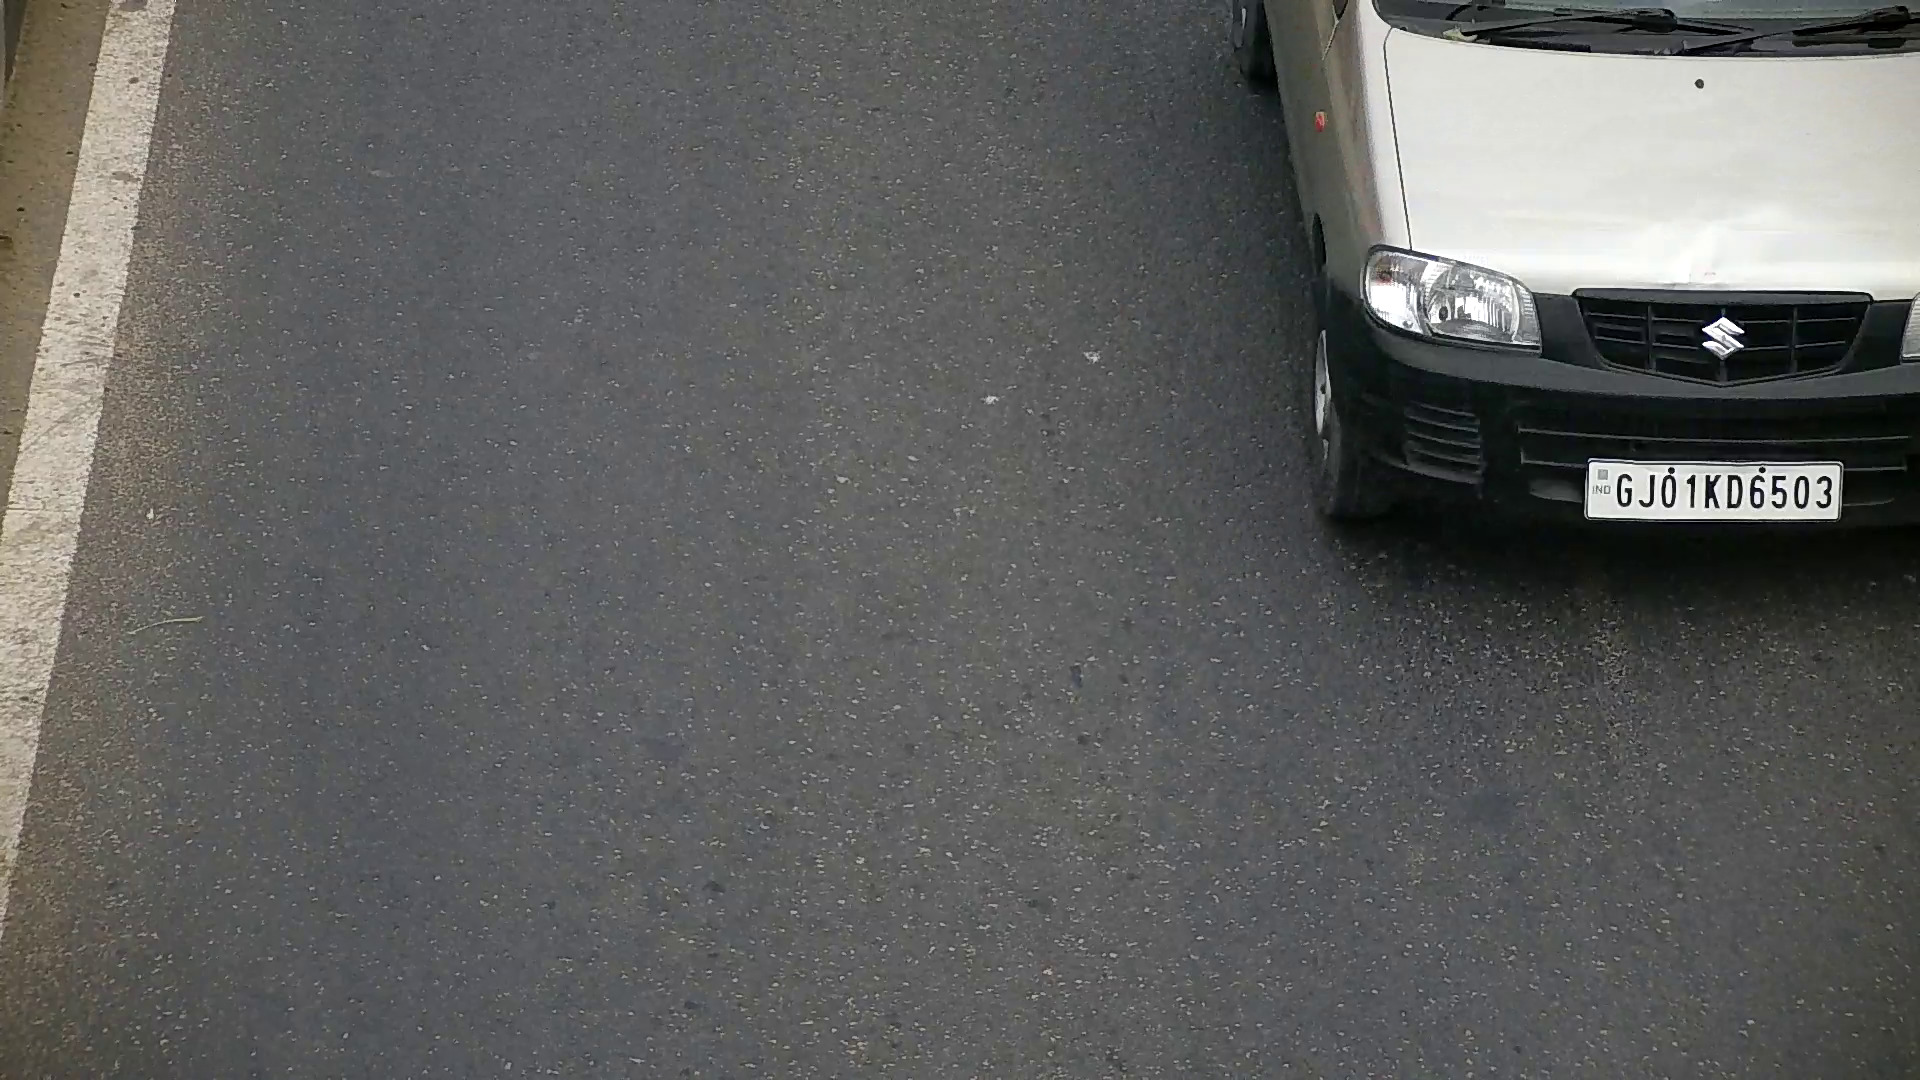numberplate: (1578, 453, 1843, 518)
